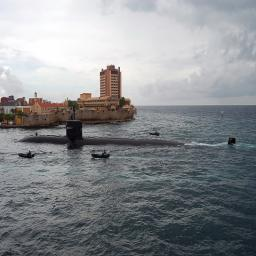submarine: (18, 119, 238, 147)
